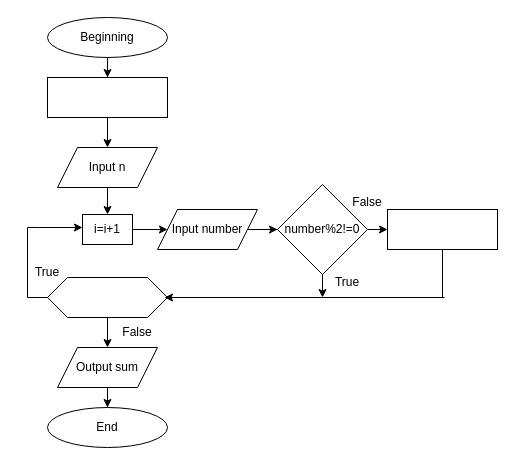
The diagram is 515 pixels wide and 465 high, and some of its shapes have lost their labels. Here are the shapes that lost their labels. From the top down, the centre of each, then its label:
At point 107,97: "int n, number, sum=0, i=0".
At point 442,229: "sum=sum+number".
At point 107,297: "while(i<n)".
